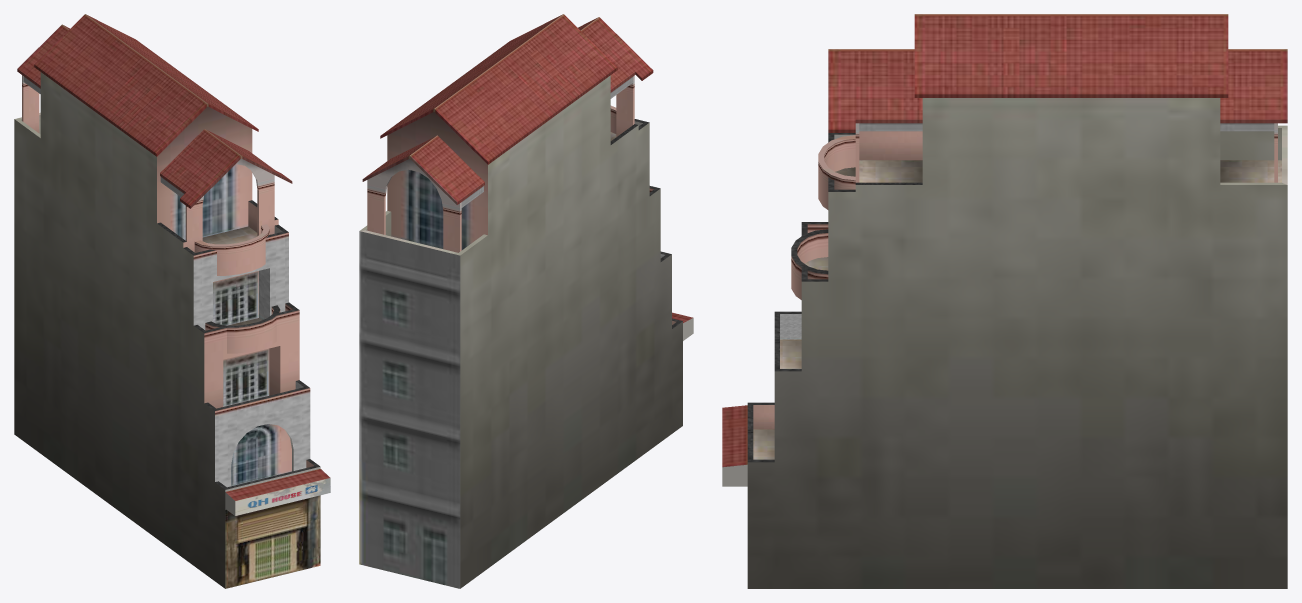
3 views of the same model, side by side, from view 1: azimuth 30°, elevation 25°; view 2: azimuth 150°, elevation 25°; view 3: azimuth 270°, elevation 25° (orthographic). The views are drawn at different scales.
Parts seen in each view (by area): view 1: 5da8344ee709220790fd1e0d.001; view 2: 5da8344ee709220790fd1e0d.001; view 3: 5da8344ee709220790fd1e0d.001.
Part boxes in pixels (x1,y1,x2,y2): 5da8344ee709220790fd1e0d.001: (14, 14, 330, 588); 5da8344ee709220790fd1e0d.001: (359, 14, 693, 588); 5da8344ee709220790fd1e0d.001: (722, 14, 1287, 588).
Size of the model in its own units: 5.32 by 21.28 by 20.
Materials: 1 (1 with a texture image).
